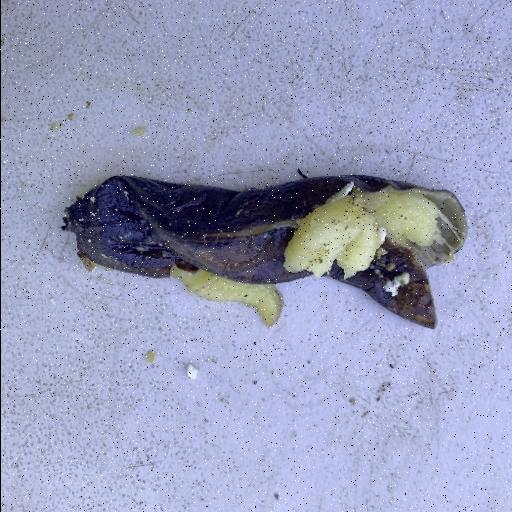Waste: (61, 170, 469, 331)
